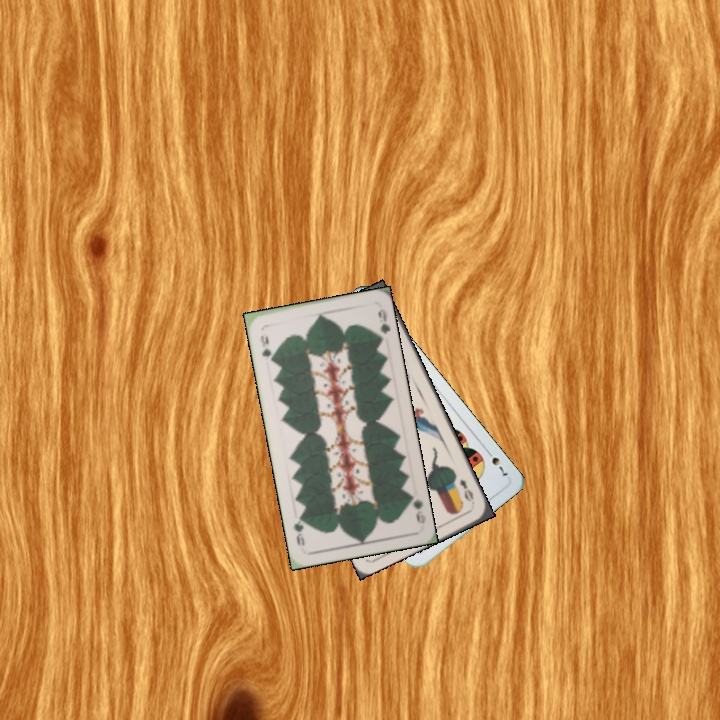EO: (456, 475, 476, 504)
G9: (404, 490, 429, 526), (256, 331, 276, 365)
S7: (482, 445, 510, 479)
